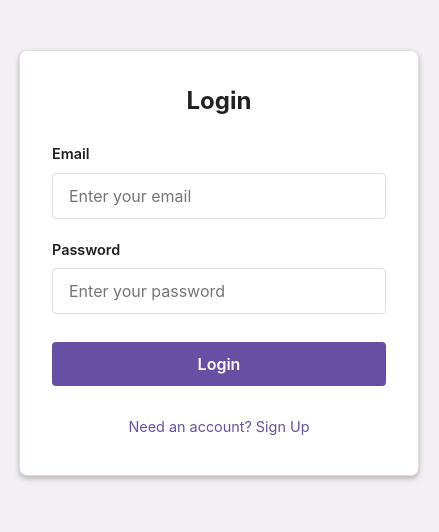
Scenario: Auth Component › displays general error for signup without token
This screenshot has width=439, height=532.
// Switch to signup
Click the button "Need an account? Sign Up" at [219, 427], box [120,410,318,443]
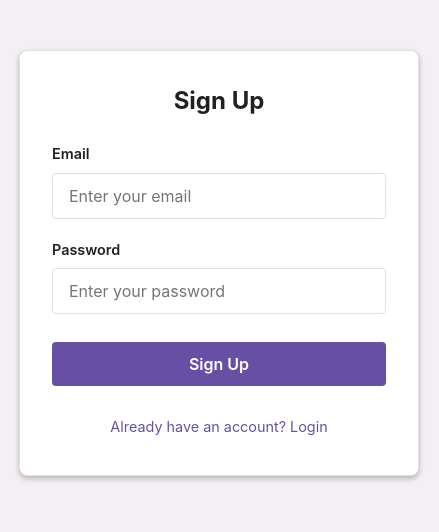
// Fill in the form
Type "test@example.com" into the field labelled "Email" at [219, 196], box [52,172,386,218]
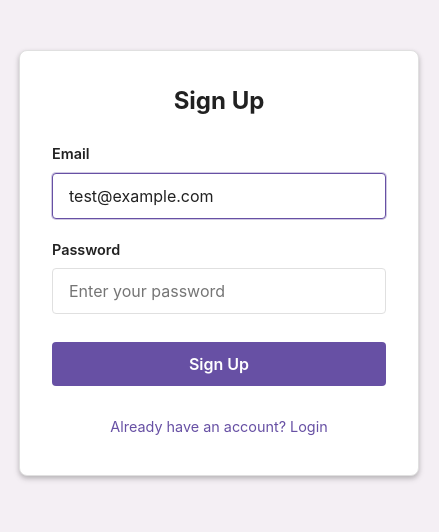
Type "password123" into the password field labelled "Password" at [219, 291], box [52,268,386,314]
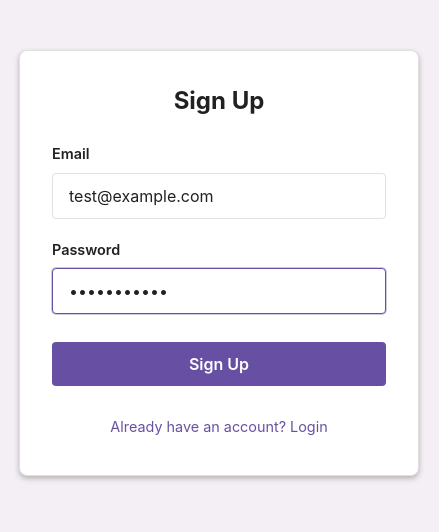
// Submit the form
Click the button "Sign Up" at [219, 364], box [52,342,386,386]
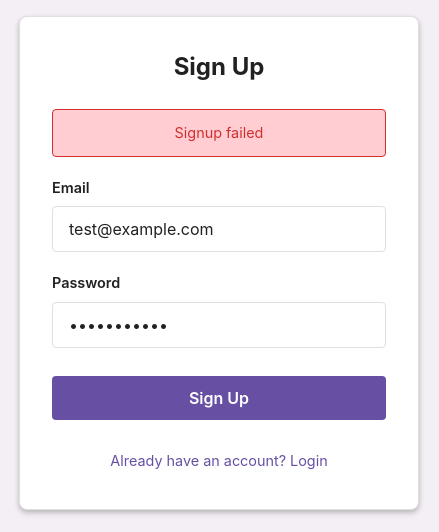
Now the text "Signup failed" is shown, box [52,109,386,157]
